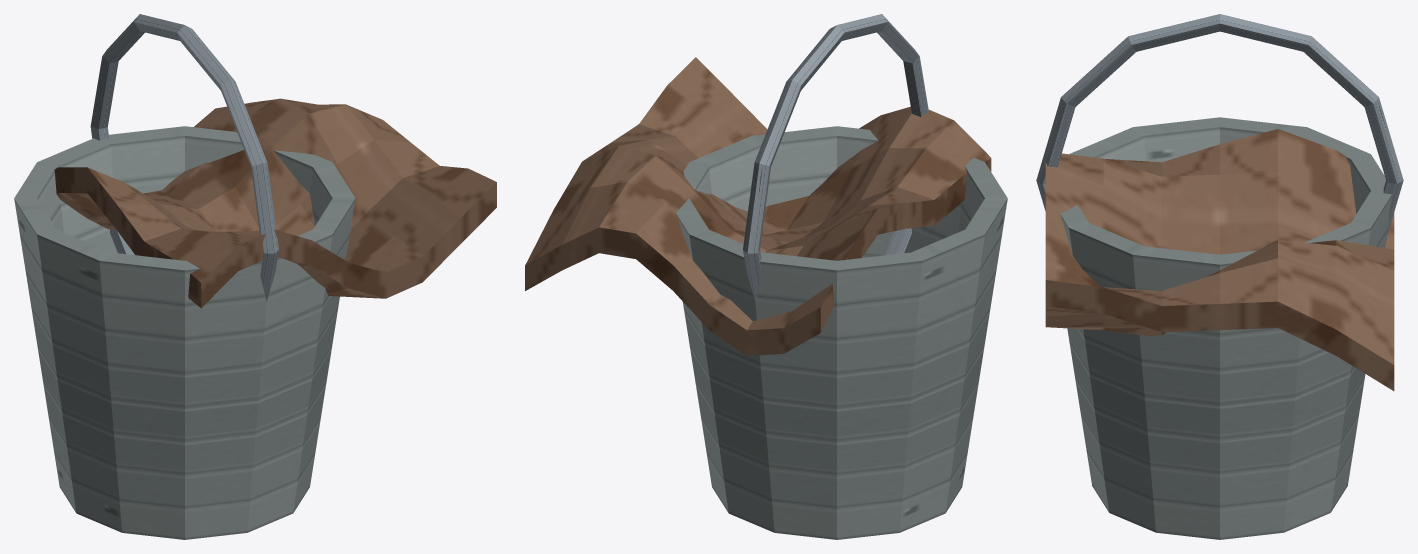
The model's file is MD_110_BucketAndCloth.fbx.
3 renders of one model, left to right at view 1: azimuth 30°, elevation 25°; view 2: azimuth 150°, elevation 25°; view 3: azimuth 270°, elevation 25°, orthographic. The views are drawn at different scales.
Parts seen in each view (by area): view 1: MD_110_BucketAndCloth_hollow_bucket, MD_110_BucketAndCloth_stitched_quilt, MD_110_BucketAndCloth_bucket_handle; view 2: MD_110_BucketAndCloth_hollow_bucket, MD_110_BucketAndCloth_stitched_quilt, MD_110_BucketAndCloth_bucket_handle; view 3: MD_110_BucketAndCloth_hollow_bucket, MD_110_BucketAndCloth_stitched_quilt, MD_110_BucketAndCloth_bucket_handle.
Part boxes in pixels (left/top/right/bottom): MD_110_BucketAndCloth_hollow_bucket: left=14, top=126, right=355, bottom=539; MD_110_BucketAndCloth_stitched_quilt: left=54, top=98, right=496, bottom=308; MD_110_BucketAndCloth_bucket_handle: left=90, top=14, right=278, bottom=301; MD_110_BucketAndCloth_hollow_bucket: left=676, top=126, right=1007, bottom=539; MD_110_BucketAndCloth_stitched_quilt: left=525, top=57, right=991, bottom=355; MD_110_BucketAndCloth_bucket_handle: left=743, top=14, right=928, bottom=301; MD_110_BucketAndCloth_hollow_bucket: left=1060, top=117, right=1391, bottom=539; MD_110_BucketAndCloth_stitched_quilt: left=1045, top=129, right=1394, bottom=390; MD_110_BucketAndCloth_bucket_handle: left=1036, top=14, right=1403, bottom=234.
Size of the model in its own units: 0.38 by 0.448 by 0.316.
Materials: 3 (3 with a texture image).
